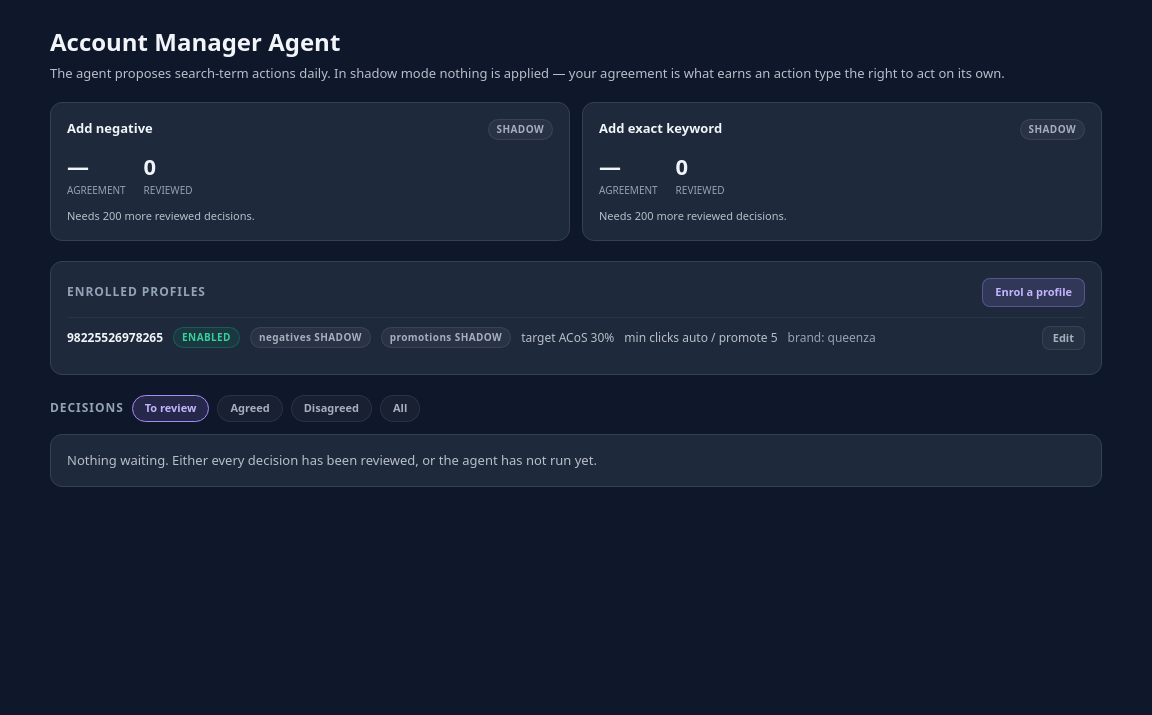
Test: AgentPanel edit form › warns before LIVE is chosen for an action type that has not graduated
This screenshot has width=1152, height=715.
Expected: the text "98225526978265" is shown, [67,329,163,347]
Click the button "Edit": click(1063, 338) [1042,326,1085,350]
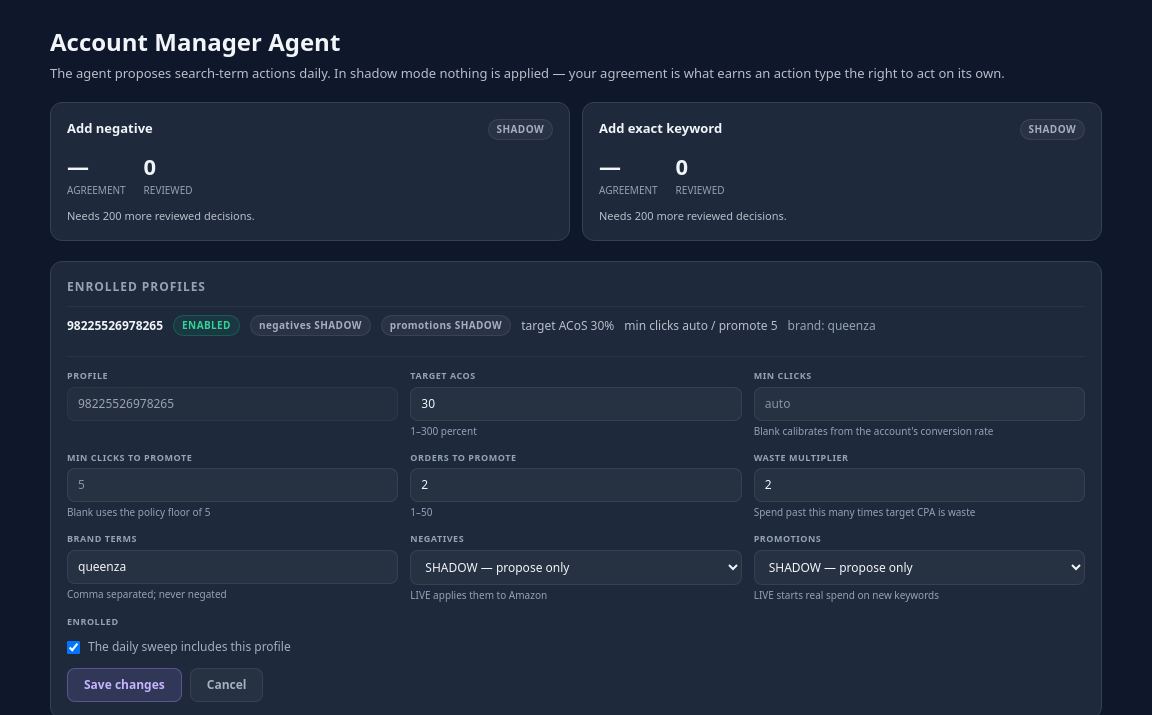
Select "LIVE — apply automatically" in the dropdown labelled "NEGATIVES LIVE applies them to Amazon": (576, 567) [410,550,742,584]
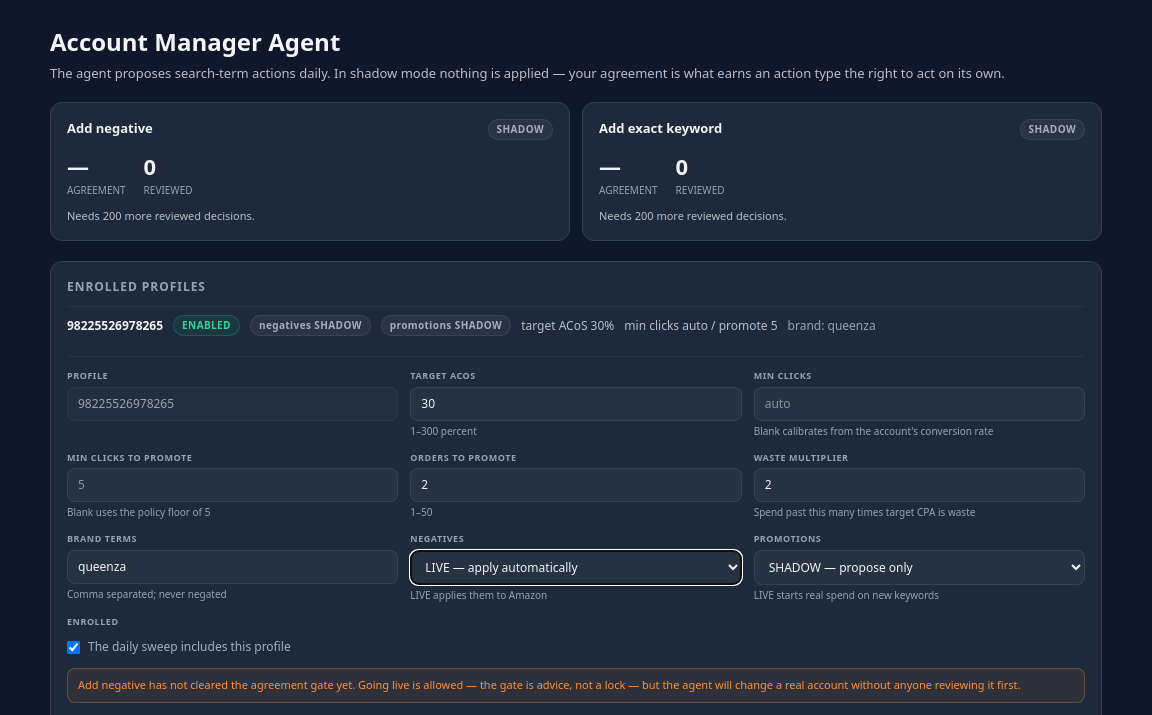
Expected: the text "not cleared the agreement gate yet" is shown, [167,677,1020,692]
